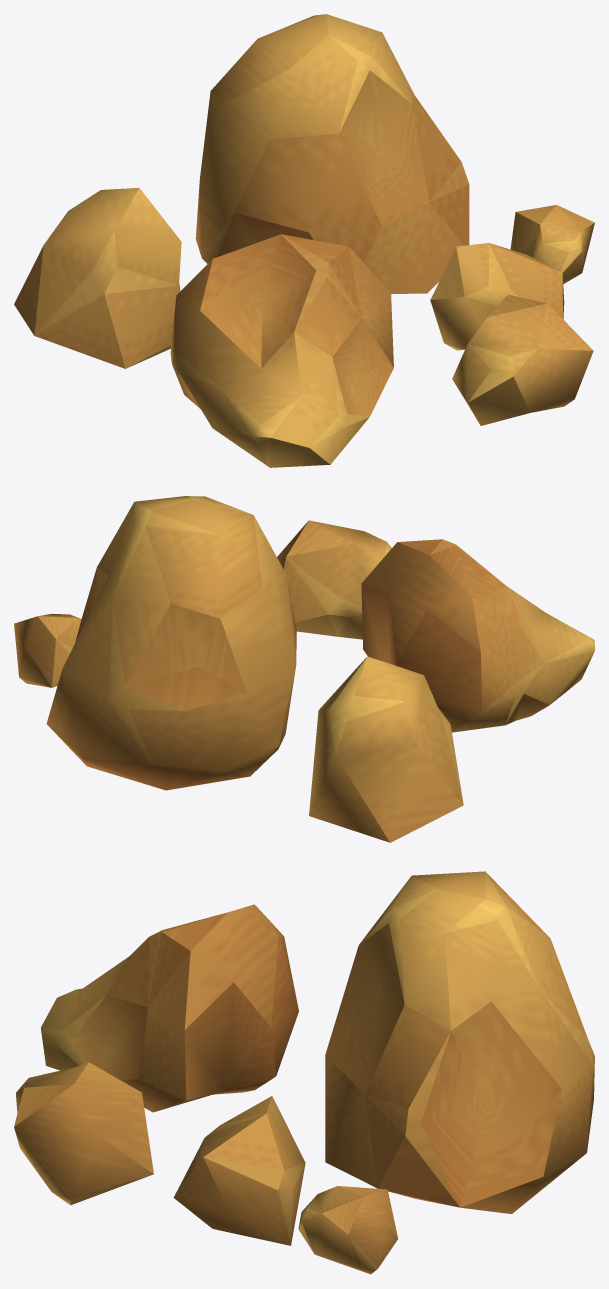
Rendered from Gold_Nuggets.gltf.
The picture shows the model from 3 angles, top to bottom: view 1: azimuth 30°, elevation 25°; view 2: azimuth 150°, elevation 25°; view 3: azimuth 270°, elevation 25°; orthographic projection. The views are drawn at different scales.
Visible parts, largest first — view 1: Gold_Nuggets; view 2: Gold_Nuggets; view 3: Gold_Nuggets.
Part boxes in pixels (box(x1,y1,x2,y2)): Gold_Nuggets: box(14, 14, 594, 467); Gold_Nuggets: box(14, 496, 594, 842); Gold_Nuggets: box(14, 871, 594, 1274).
Size of the model in its own units: 0.9288 by 0.4749 by 0.8501.
1 material, 1 textured.
